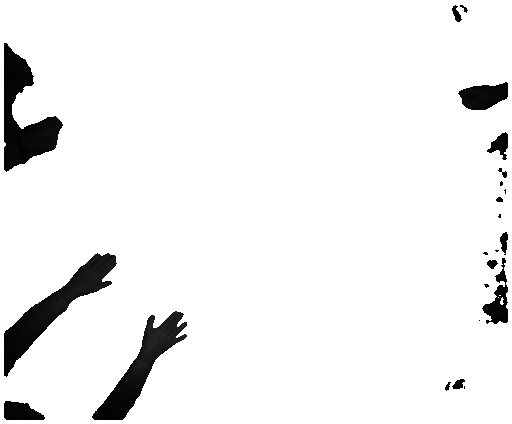fist: (456, 80, 496, 111)
hand: (143, 304, 191, 360), (68, 248, 119, 300), (23, 115, 63, 165)
